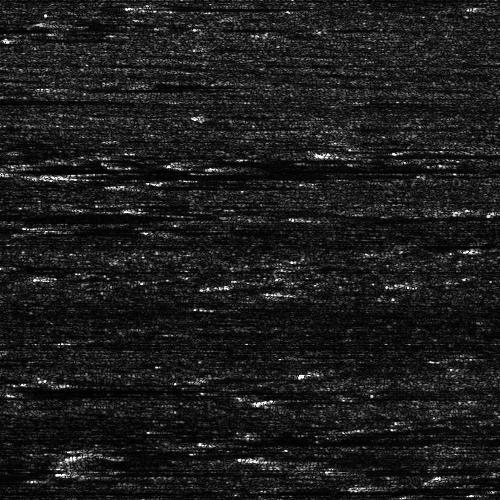object: (53, 454, 126, 487), (153, 433, 288, 450), (314, 457, 407, 478), (38, 165, 121, 184), (336, 476, 419, 493), (11, 375, 126, 386), (0, 384, 61, 397), (292, 213, 355, 222), (172, 163, 235, 170), (86, 182, 169, 187), (129, 4, 182, 9)
shadow: (90, 454, 437, 487), (0, 206, 433, 225), (80, 165, 372, 184), (361, 457, 500, 478), (221, 433, 362, 450), (378, 476, 500, 493), (204, 163, 444, 170), (15, 384, 141, 397), (69, 375, 196, 386), (324, 213, 448, 222), (156, 4, 343, 9), (0, 91, 98, 100), (128, 182, 246, 187), (345, 148, 407, 153)
